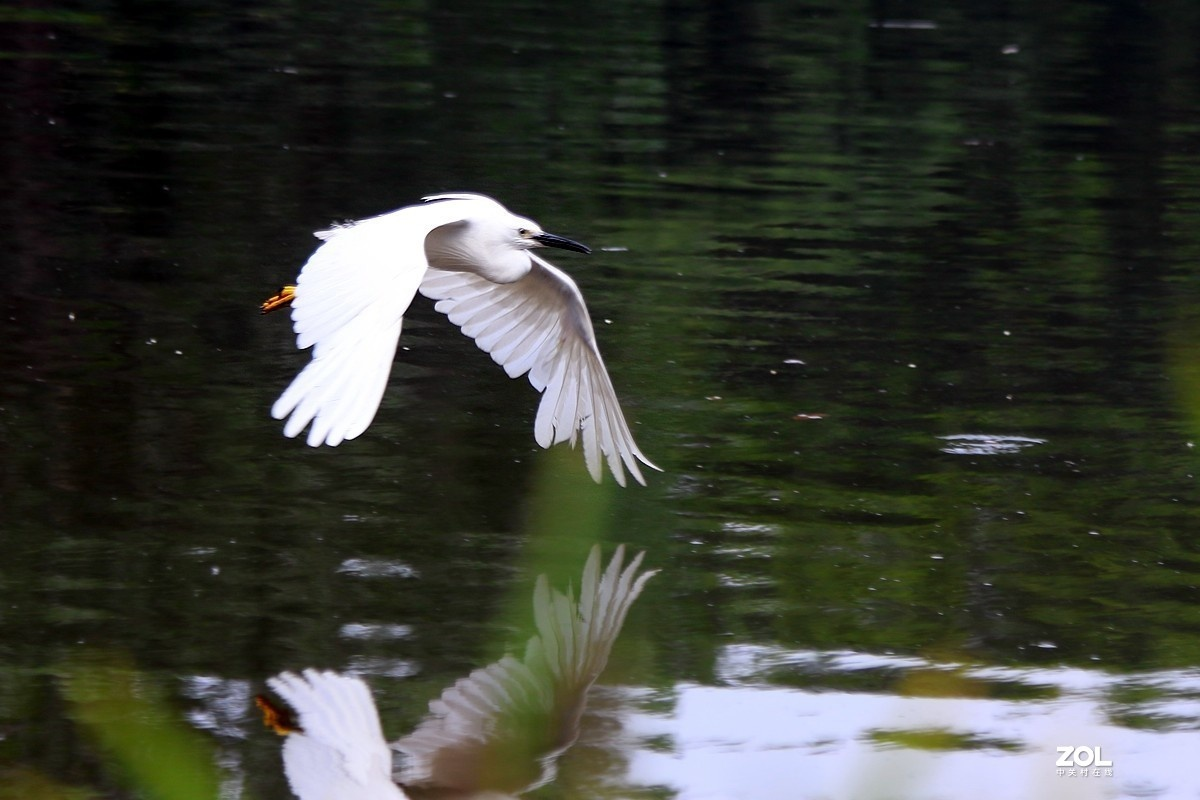bird: (255, 190, 664, 492)
